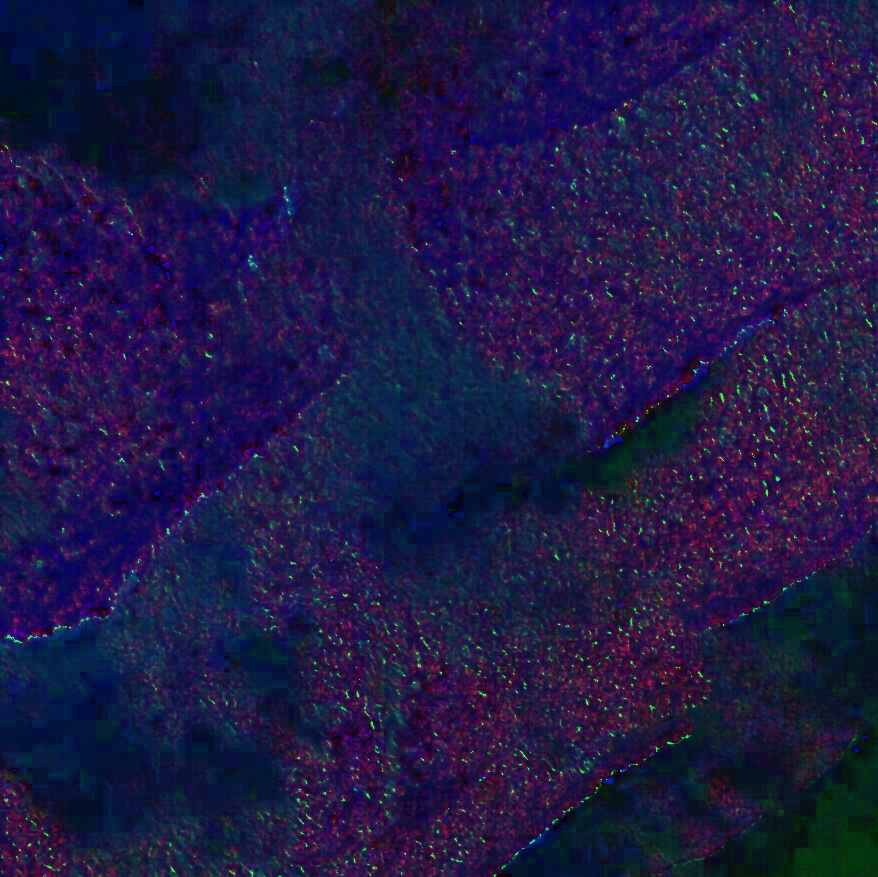rip_current: (193, 123, 660, 614)
